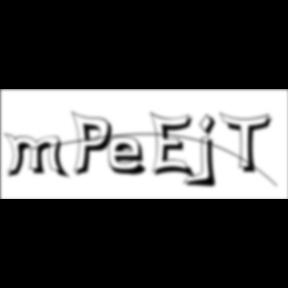E: (150, 110, 198, 182)
P: (72, 110, 118, 180)
T: (220, 112, 278, 176)
e: (108, 135, 154, 178)
j: (196, 113, 224, 191)
m: (4, 132, 72, 181)
